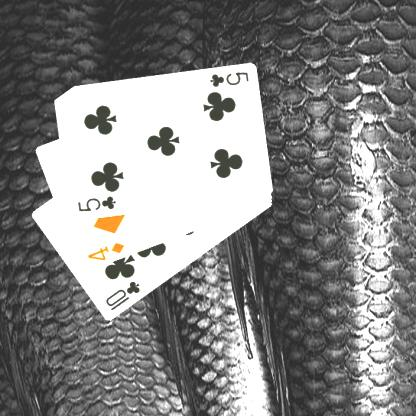10C: (102, 278, 142, 313)
4D: (84, 240, 126, 262)
5C: (75, 193, 117, 214), (207, 69, 250, 89)
